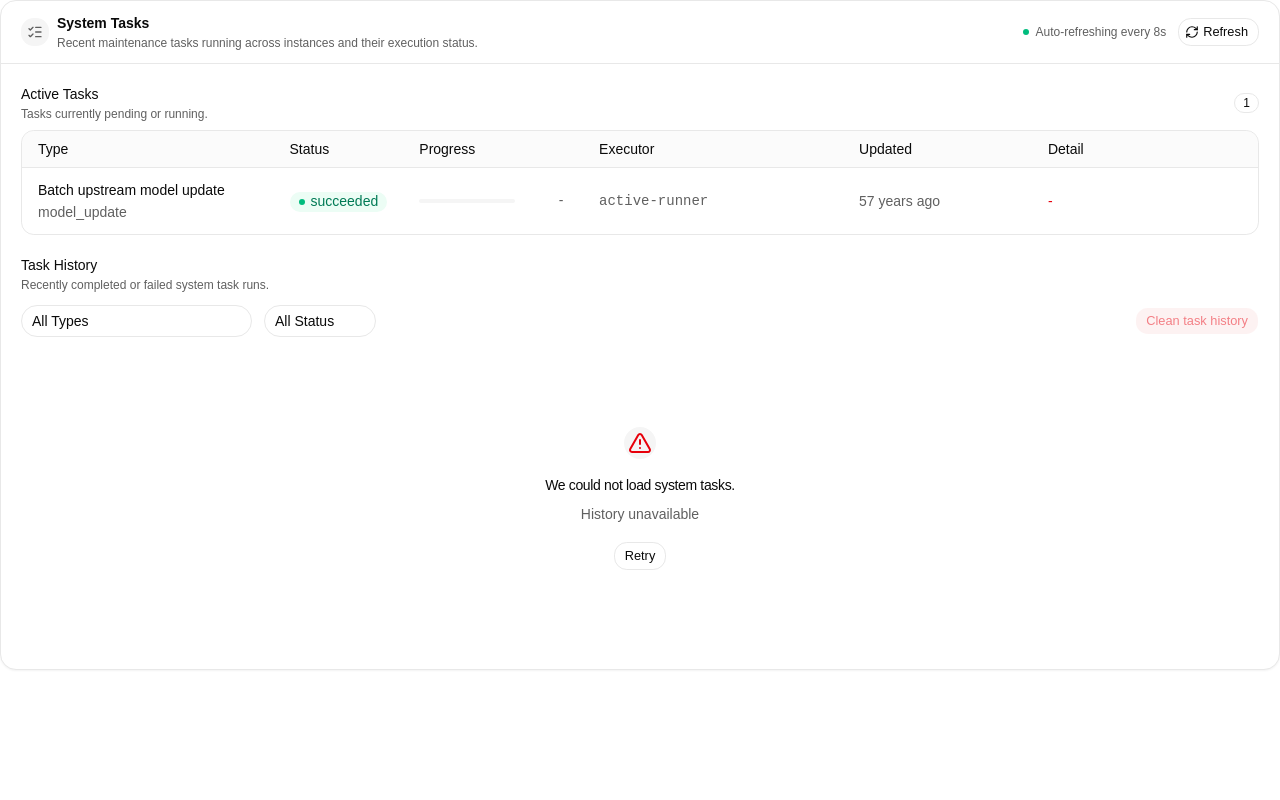
shows history query failures without hiding active tasks and allows retry
Expected: the text "History unavailable" is shown, [581,503,699,526]
Expected: the text "active-runner" is shown, [591,167,851,234]
Click the button "Retry" at (640, 556), box [614,542,666,570]
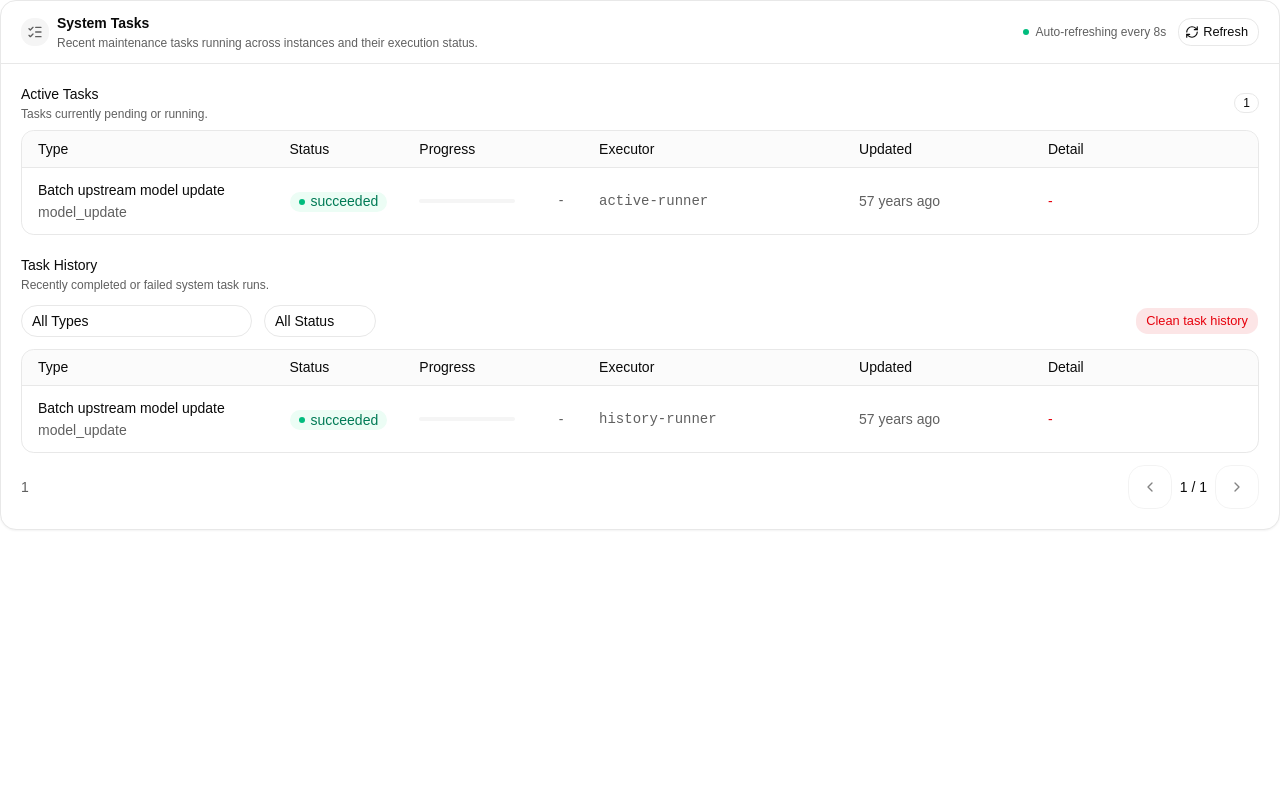
Expected: the text "history-runner" is shown, [591,386,851,452]
